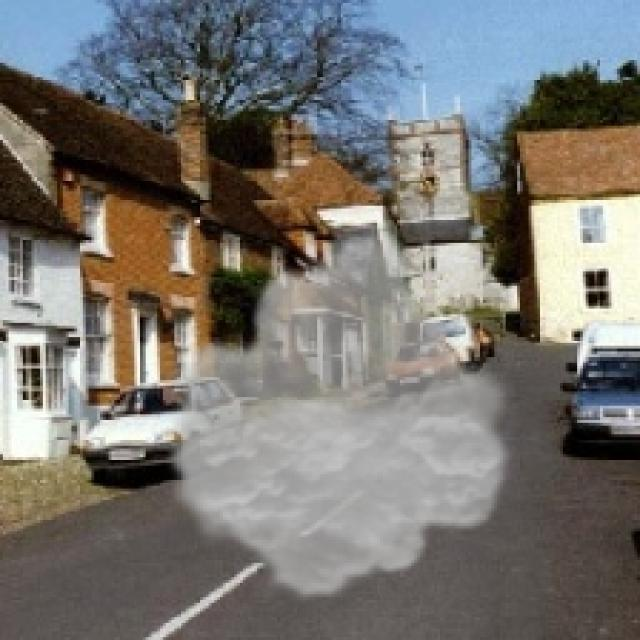Smoke: (160, 223, 520, 603)
